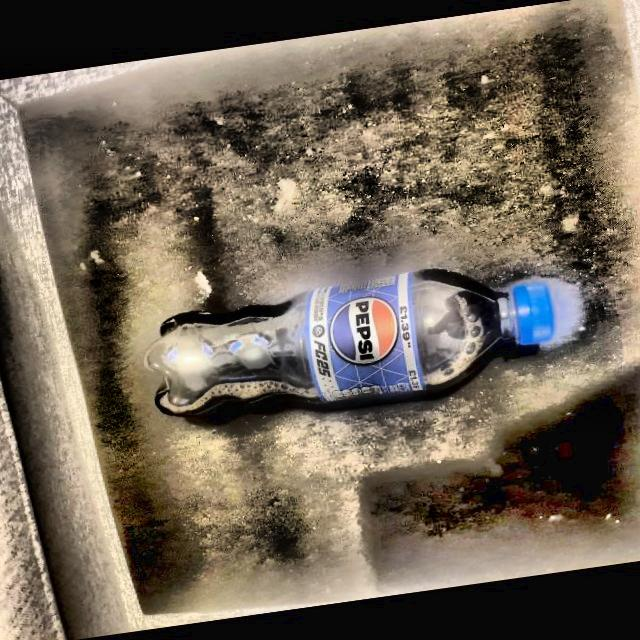pepsi-bottle: (139, 273, 558, 421)
